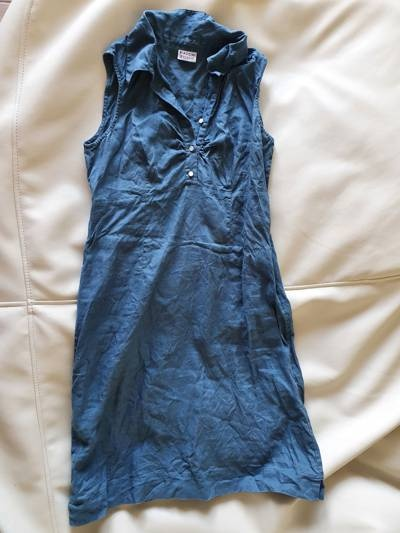Dress: (60, 19, 363, 529)
